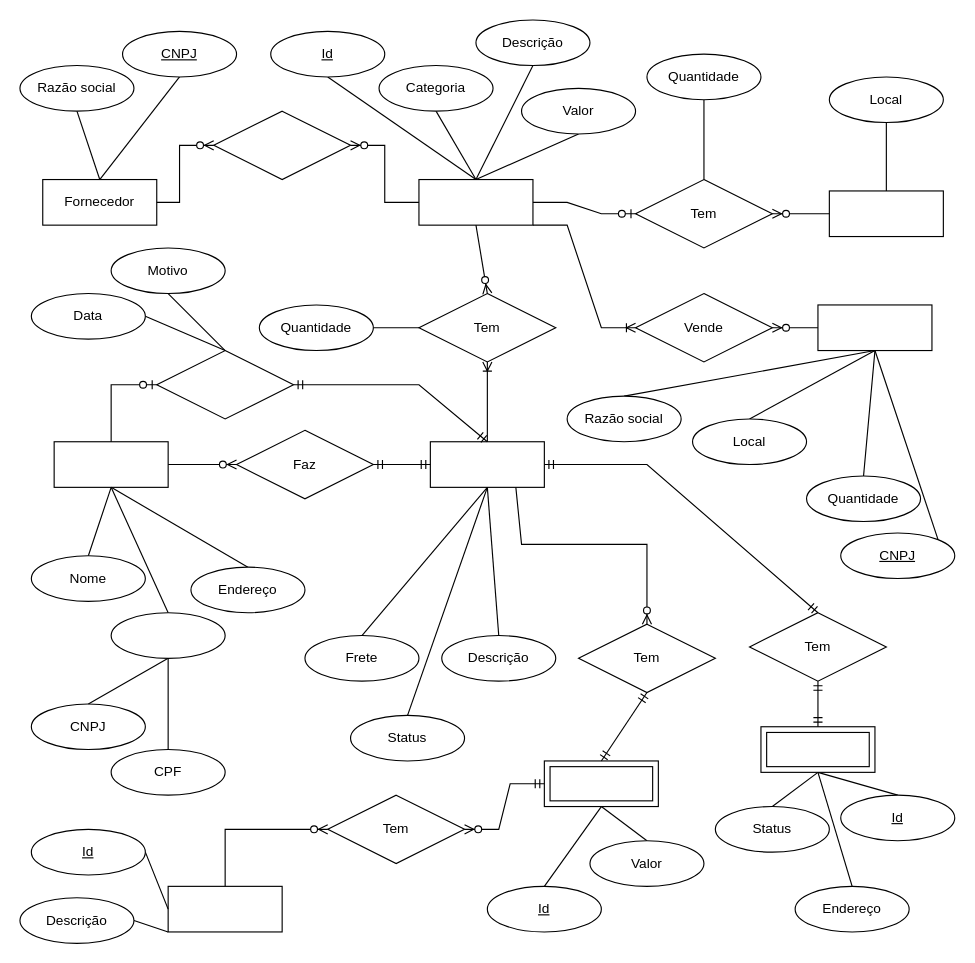
This 975x963 diagram has some shape labels left out. Here are the shapes that lost their labels. From the top down, the centre of each, then its label:
[282,145]: Distribui
[475,201]: Produto
[885,213]: Estoque
[874,327]: Terceiro - Vendedor
[225,384]: Devolve
[110,464]: Cliente
[486,464]: Pedido
[167,635]: Identificação
[817,749]: Entrega
[600,783]: Pagamento
[224,908]: Forma de pagamento
